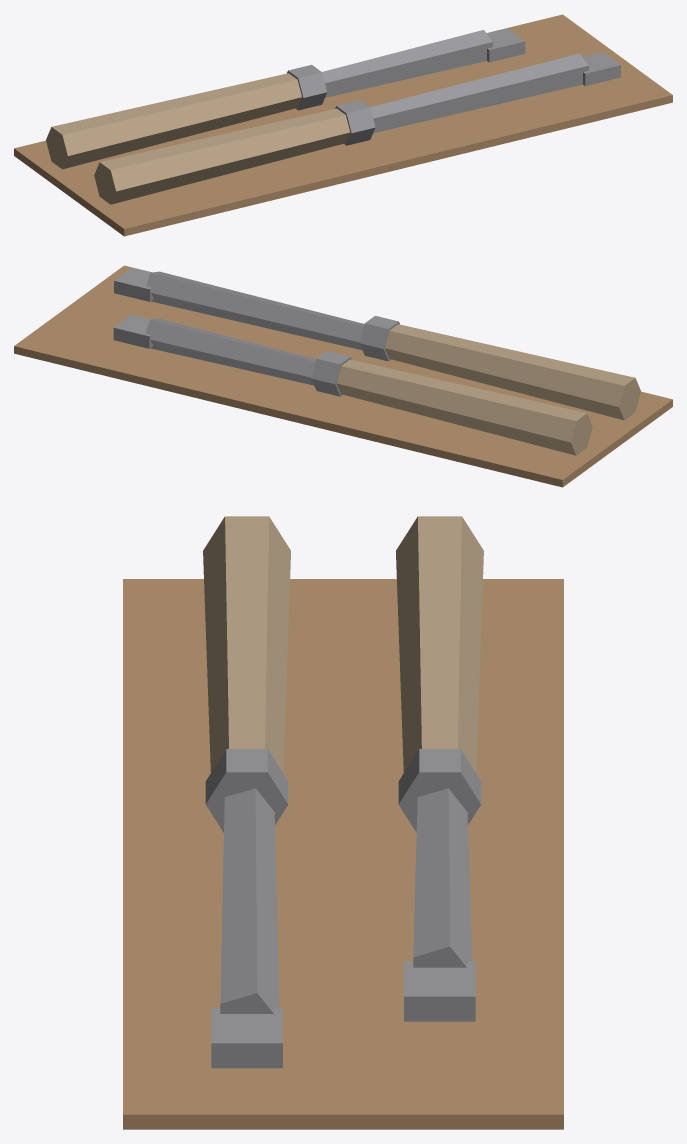
Rendered from prop-gouge-set-tu1.fbx.
The picture shows the model from 3 angles, top to bottom: view 1: azimuth 30°, elevation 25°; view 2: azimuth 150°, elevation 25°; view 3: azimuth 270°, elevation 25°; orthographic projection. The views are drawn at different scales.
Parts seen in each view (by area): view 1: prop-gouge-set-tu1; view 2: prop-gouge-set-tu1; view 3: prop-gouge-set-tu1.
Boxes of the visible parts, left/top/right/bottom form: prop-gouge-set-tu1: left=14, top=14, right=672, bottom=236; prop-gouge-set-tu1: left=14, top=265, right=672, bottom=487; prop-gouge-set-tu1: left=123, top=516, right=563, bottom=1129.
Bounding box in the file's own units: 46 × 3.59 × 16.
